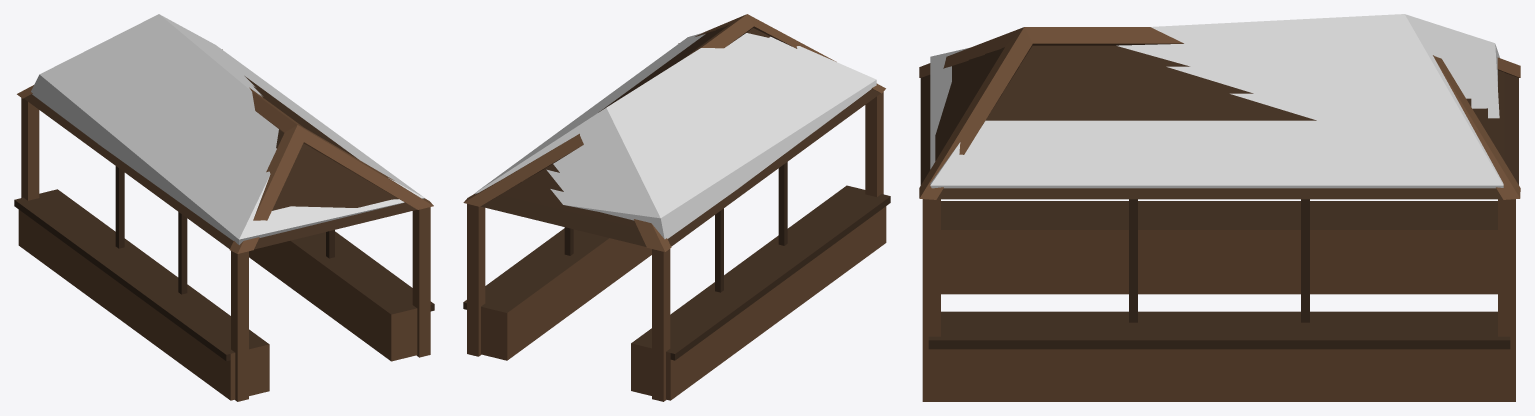
The model's file is market_base_snow_mat.fbx.
3 views of the same model, side by side, from view 1: azimuth 30°, elevation 25°; view 2: azimuth 150°, elevation 25°; view 3: azimuth 270°, elevation 25° (orthographic). The views are drawn at different scales.
Visible parts, largest first — view 1: market_base_snow_mat; view 2: market_base_snow_mat; view 3: market_base_snow_mat.
Part boxes in pixels (x1,y1,x2,y2): market_base_snow_mat: [14, 14, 434, 401]; market_base_snow_mat: [463, 14, 890, 401]; market_base_snow_mat: [919, 14, 1520, 401].
Size of the model in its own units: 262 by 283 by 477.
